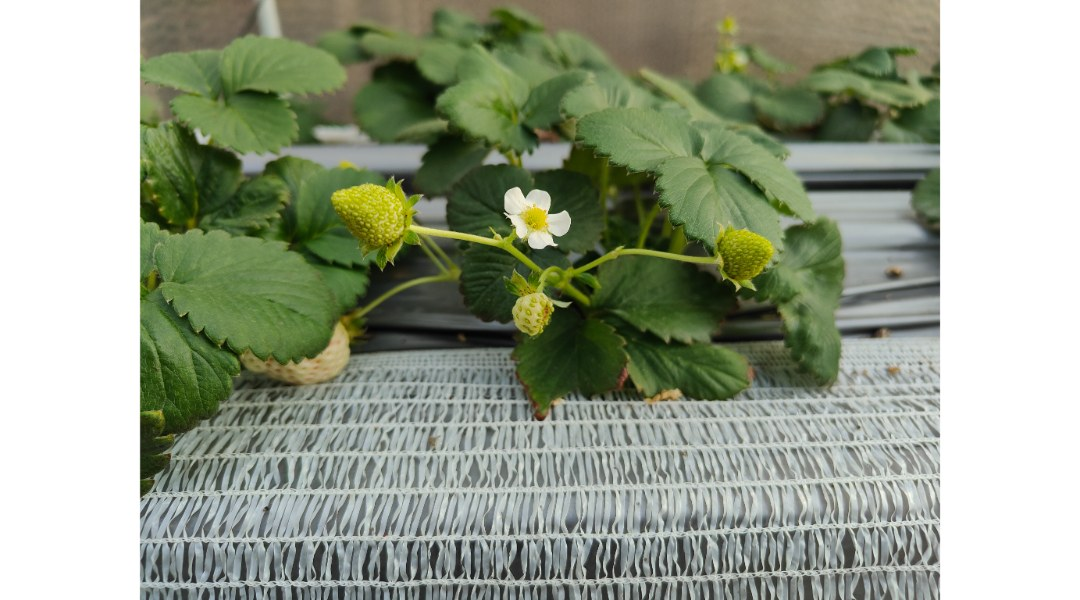berry: (321, 183, 424, 265), (708, 216, 786, 300), (501, 288, 566, 345)
flower: (494, 181, 576, 253)
strain: (362, 276, 442, 317), (609, 238, 712, 269), (408, 227, 493, 244)
